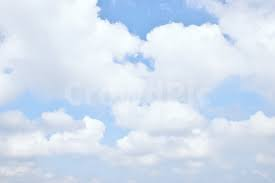sky: (1, 1, 272, 183)
